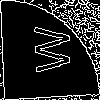W: (25, 25, 71, 74)
